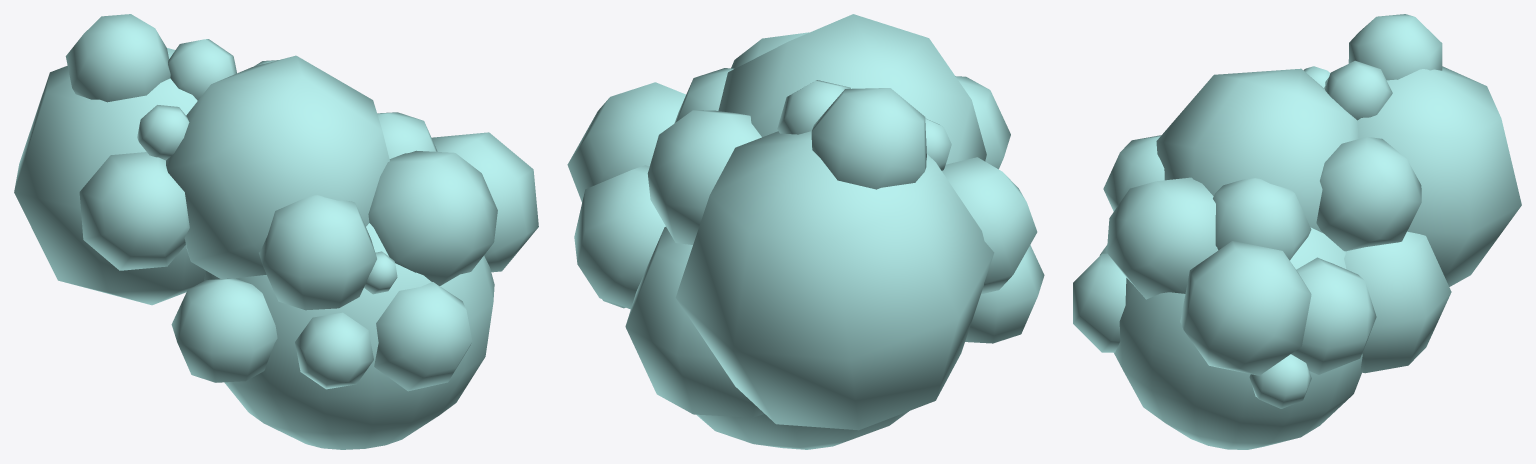
Rendered from p_renderable_foamgun_bubbles_pose0.fbx.
3 views of the same model, side by side, from view 1: azimuth 30°, elevation 25°; view 2: azimuth 150°, elevation 25°; view 3: azimuth 270°, elevation 25° (orthographic). The views are drawn at different scales.
Parts seen in each view (by area): view 1: Sphere.001; view 2: Sphere.001; view 3: Sphere.001.
Boxes of the visible parts, x1,y1,x2,y2 form: Sphere.001: [14, 14, 538, 449]; Sphere.001: [567, 14, 1044, 449]; Sphere.001: [1073, 14, 1521, 449].
Bounding box in the file's own units: 2.22 × 1.98 × 2.28.
